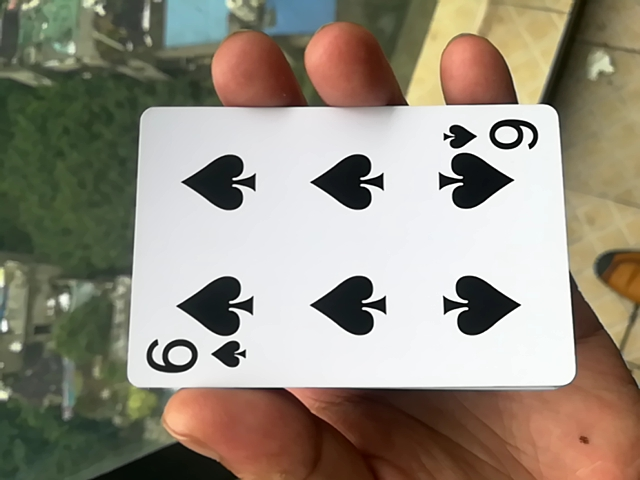ht 6: (120, 107, 570, 400)
